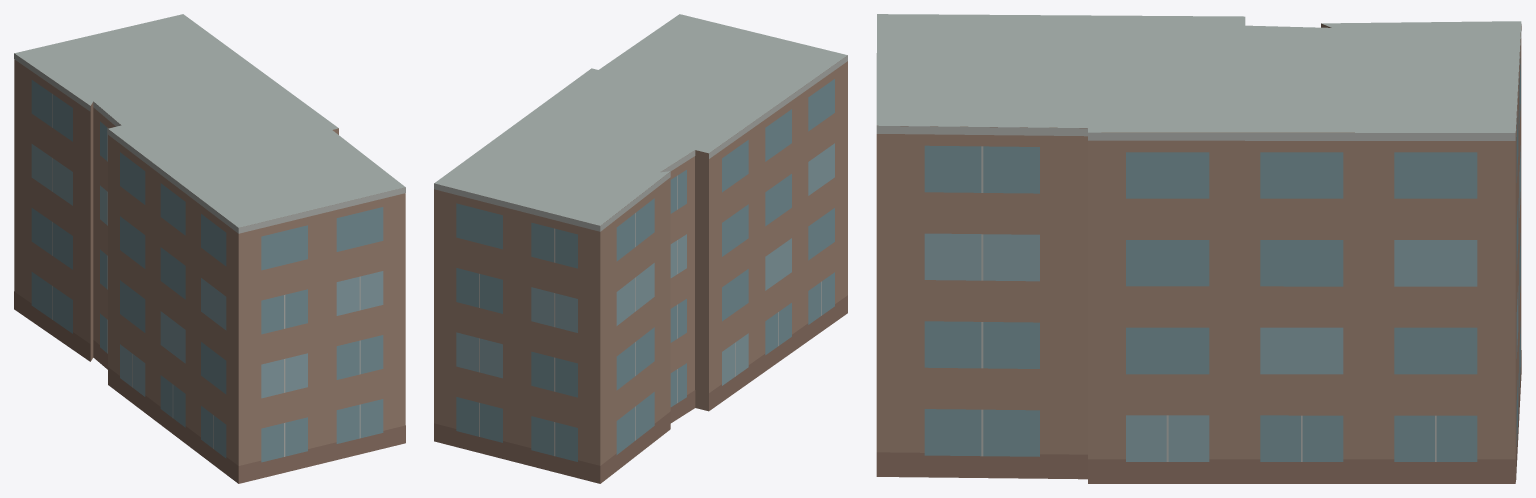
The model's file is survey-upis-32935867.glb.
The picture shows the model from 3 angles, left to right: view 1: azimuth 30°, elevation 25°; view 2: azimuth 150°, elevation 25°; view 3: azimuth 270°, elevation 25°; orthographic projection. The views are drawn at different scales.
Parts seen in each view (by area): view 1: survey-upis-32935867.tmp; view 2: survey-upis-32935867.tmp; view 3: survey-upis-32935867.tmp.
Part boxes in pixels (x1=…): survey-upis-32935867.tmp: x1=14, y1=14, x2=405, y2=483; survey-upis-32935867.tmp: x1=434, y1=14, x2=847, y2=483; survey-upis-32935867.tmp: x1=876, y1=14, x2=1521, y2=483.
Size of the model in its own units: 7.71 by 10.6 by 17.66.
